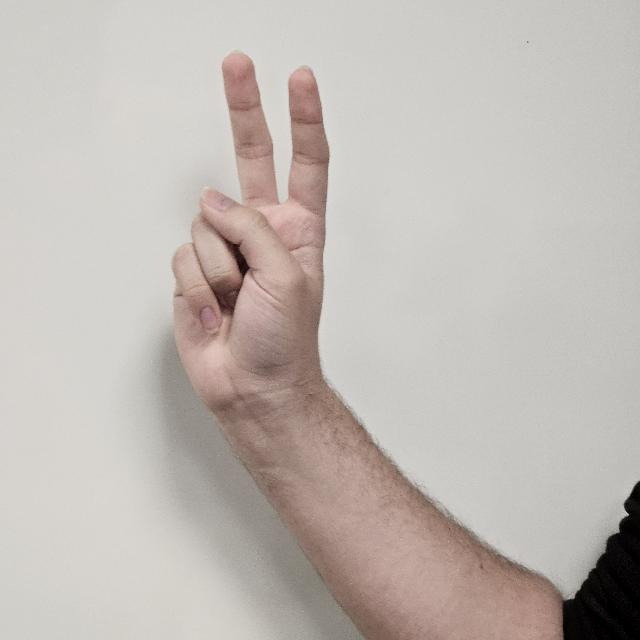Triangulo: (159, 50, 355, 446)
